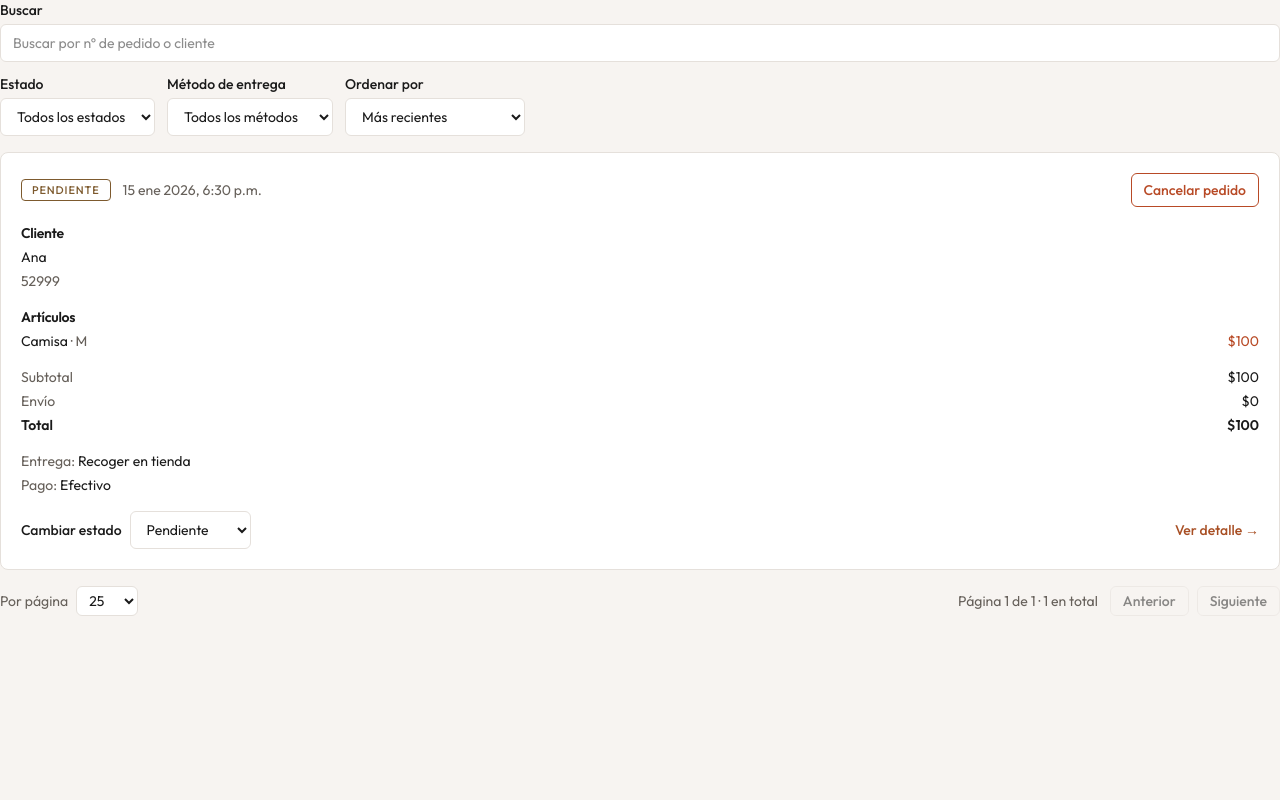
Test case: OrdersView transitions › shows the backend 409 message and reloads
Click the button "Cancelar pedido" at (1195, 190), box top-left (1130, 173), bottom-right (1259, 207)
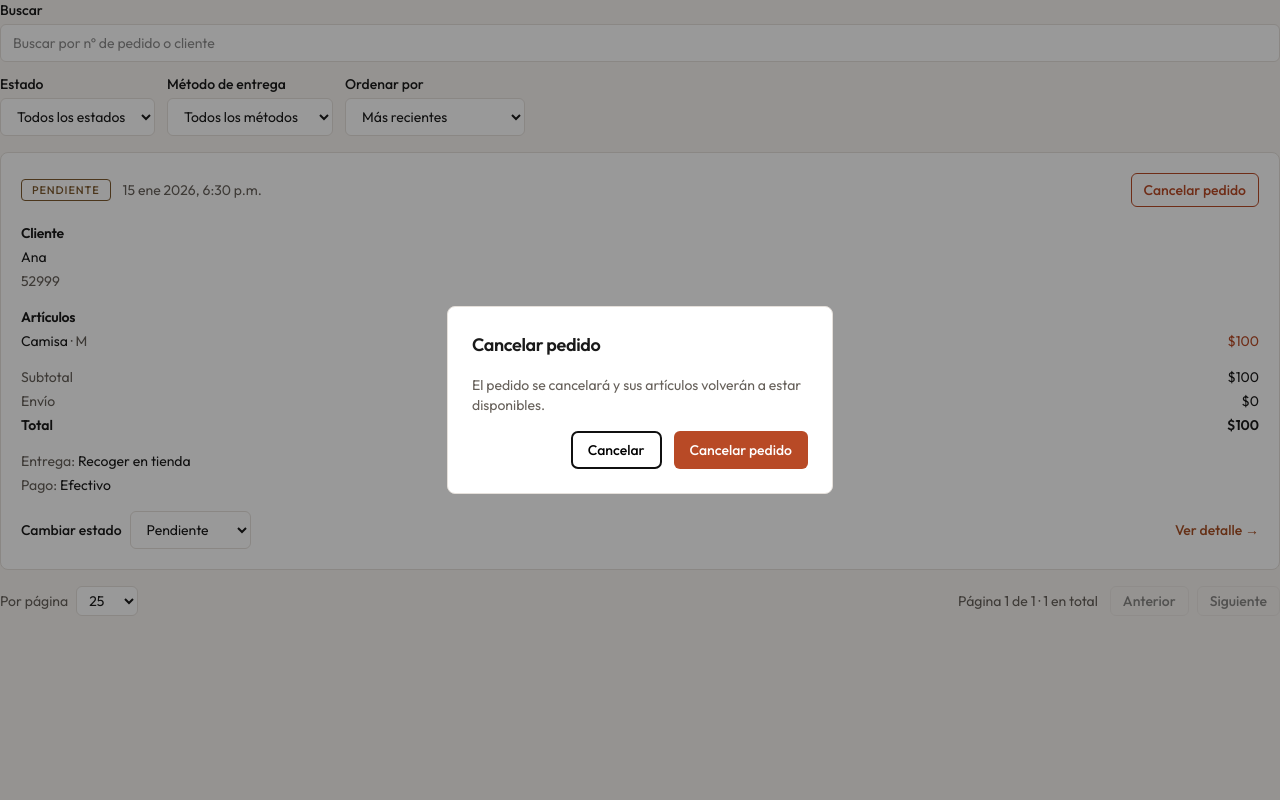
Click the button "Cancelar pedido" at (741, 450), box top-left (674, 431), bottom-right (808, 469)
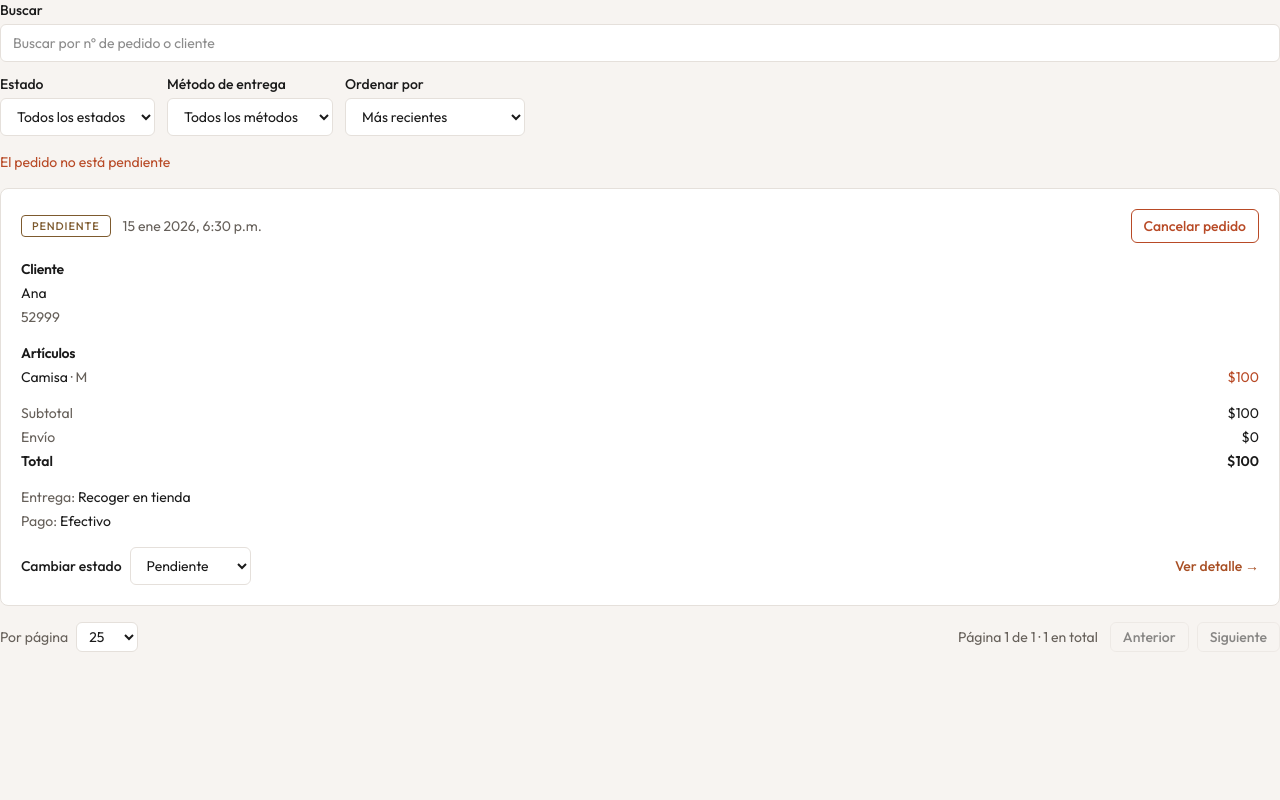
Result: the text "El pedido no está pendiente" is shown at top-left (0, 153), bottom-right (170, 171)
